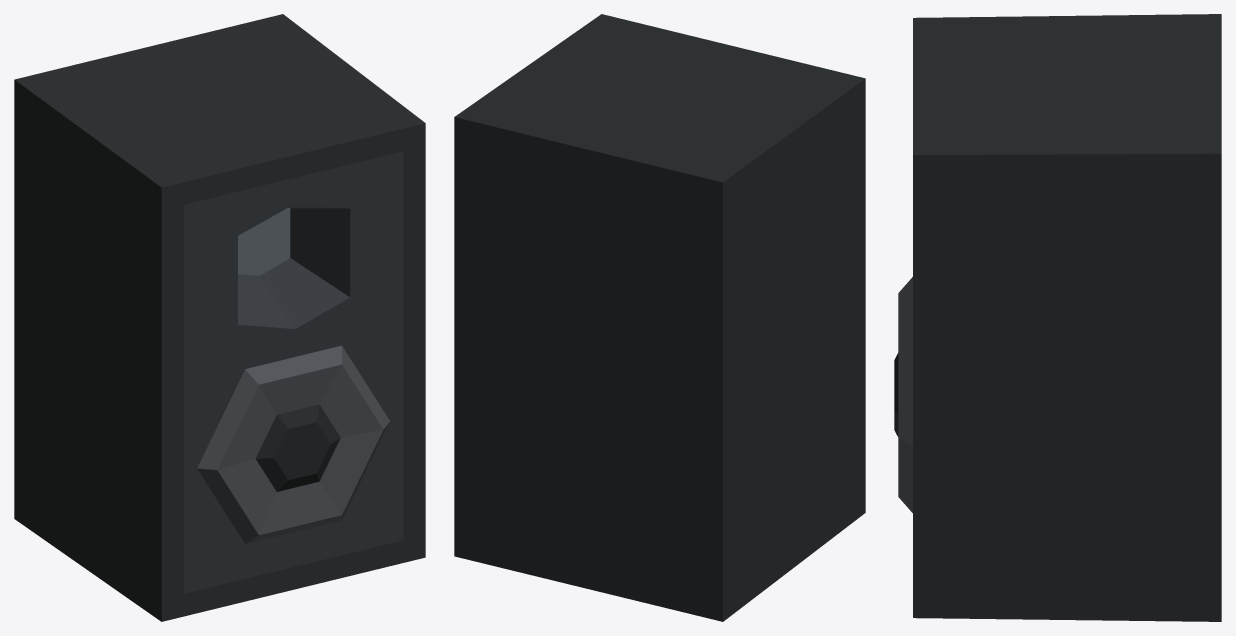
Rendered from SM_Prop_Electronics_Speaker_01.glb.
3 renders of one model, left to right at view 1: azimuth 30°, elevation 25°; view 2: azimuth 150°, elevation 25°; view 3: azimuth 270°, elevation 25°, orthographic. The views are drawn at different scales.
Visible parts, largest first — view 1: SM_Prop_Electronics_Speaker_01; view 2: SM_Prop_Electronics_Speaker_01; view 3: SM_Prop_Electronics_Speaker_01.
Boxes of the visible parts, x1=… form: SM_Prop_Electronics_Speaker_01: x1=14, y1=14, x2=425, y2=621; SM_Prop_Electronics_Speaker_01: x1=454, y1=14, x2=865, y2=621; SM_Prop_Electronics_Speaker_01: x1=894, y1=14, x2=1221, y2=621.
Bounding box in the file's own units: 0.309 × 0.4827 × 0.3061.
Materials: 1 (1 with a texture image).
